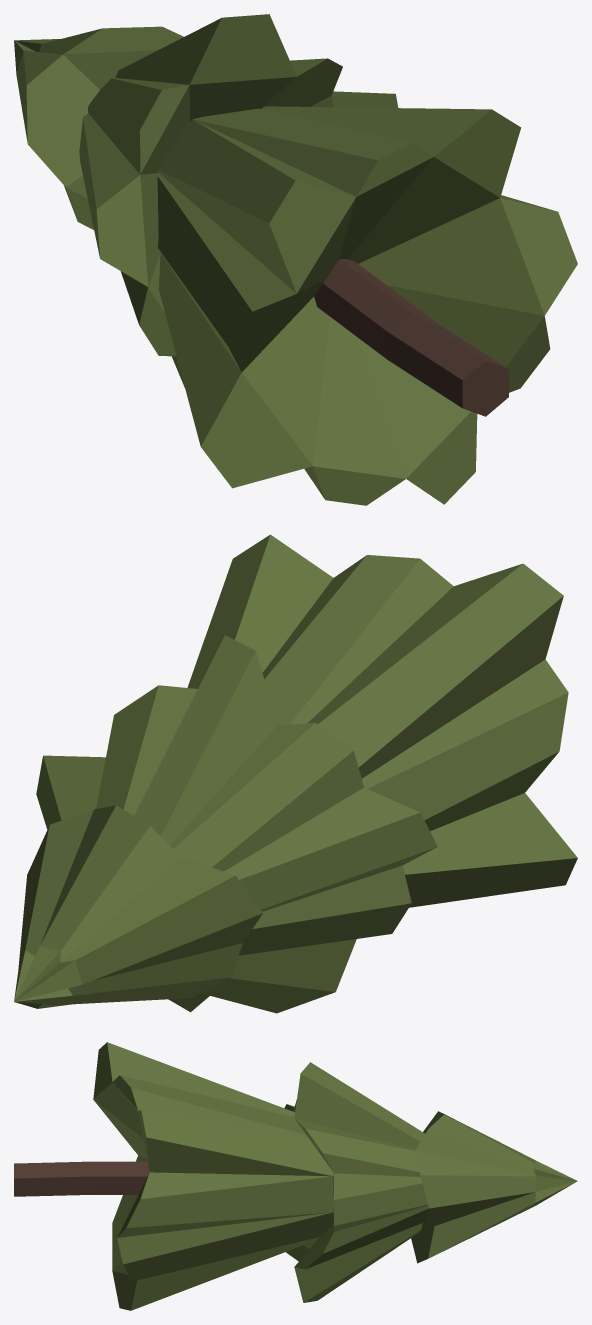
The model's file is Tree Type2 03.glb.
3 views of the same model, one above another, from view 1: azimuth 30°, elevation 25°; view 2: azimuth 150°, elevation 25°; view 3: azimuth 270°, elevation 25° (orthographic). The views are drawn at different scales.
Visible parts, largest first — view 1: Tree Type2 03_mesh; view 2: Tree Type2 03_mesh; view 3: Tree Type2 03_mesh.
Part boxes in pixels (bbox=[...]): Tree Type2 03_mesh: bbox=[14, 14, 577, 505]; Tree Type2 03_mesh: bbox=[14, 534, 577, 1013]; Tree Type2 03_mesh: bbox=[14, 1042, 577, 1310].
Bounding box in the file's own units: 1.88 × 1.86 × 4.15.
1 material, 1 textured.
